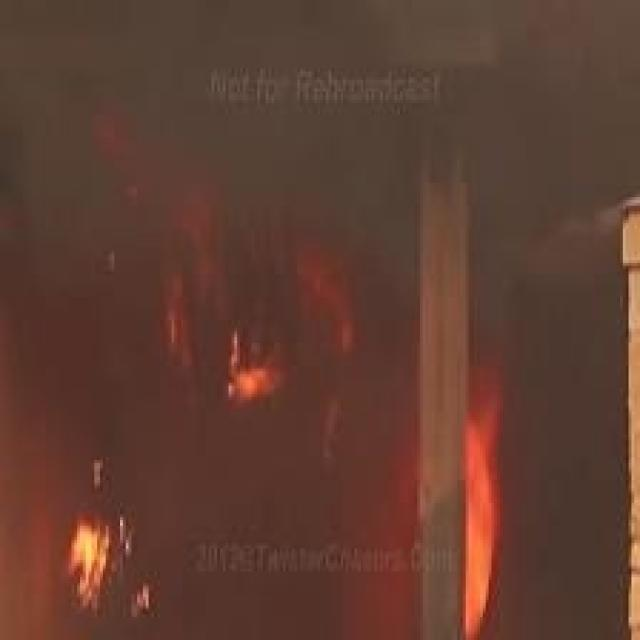smoke: (14, 0, 497, 246)
